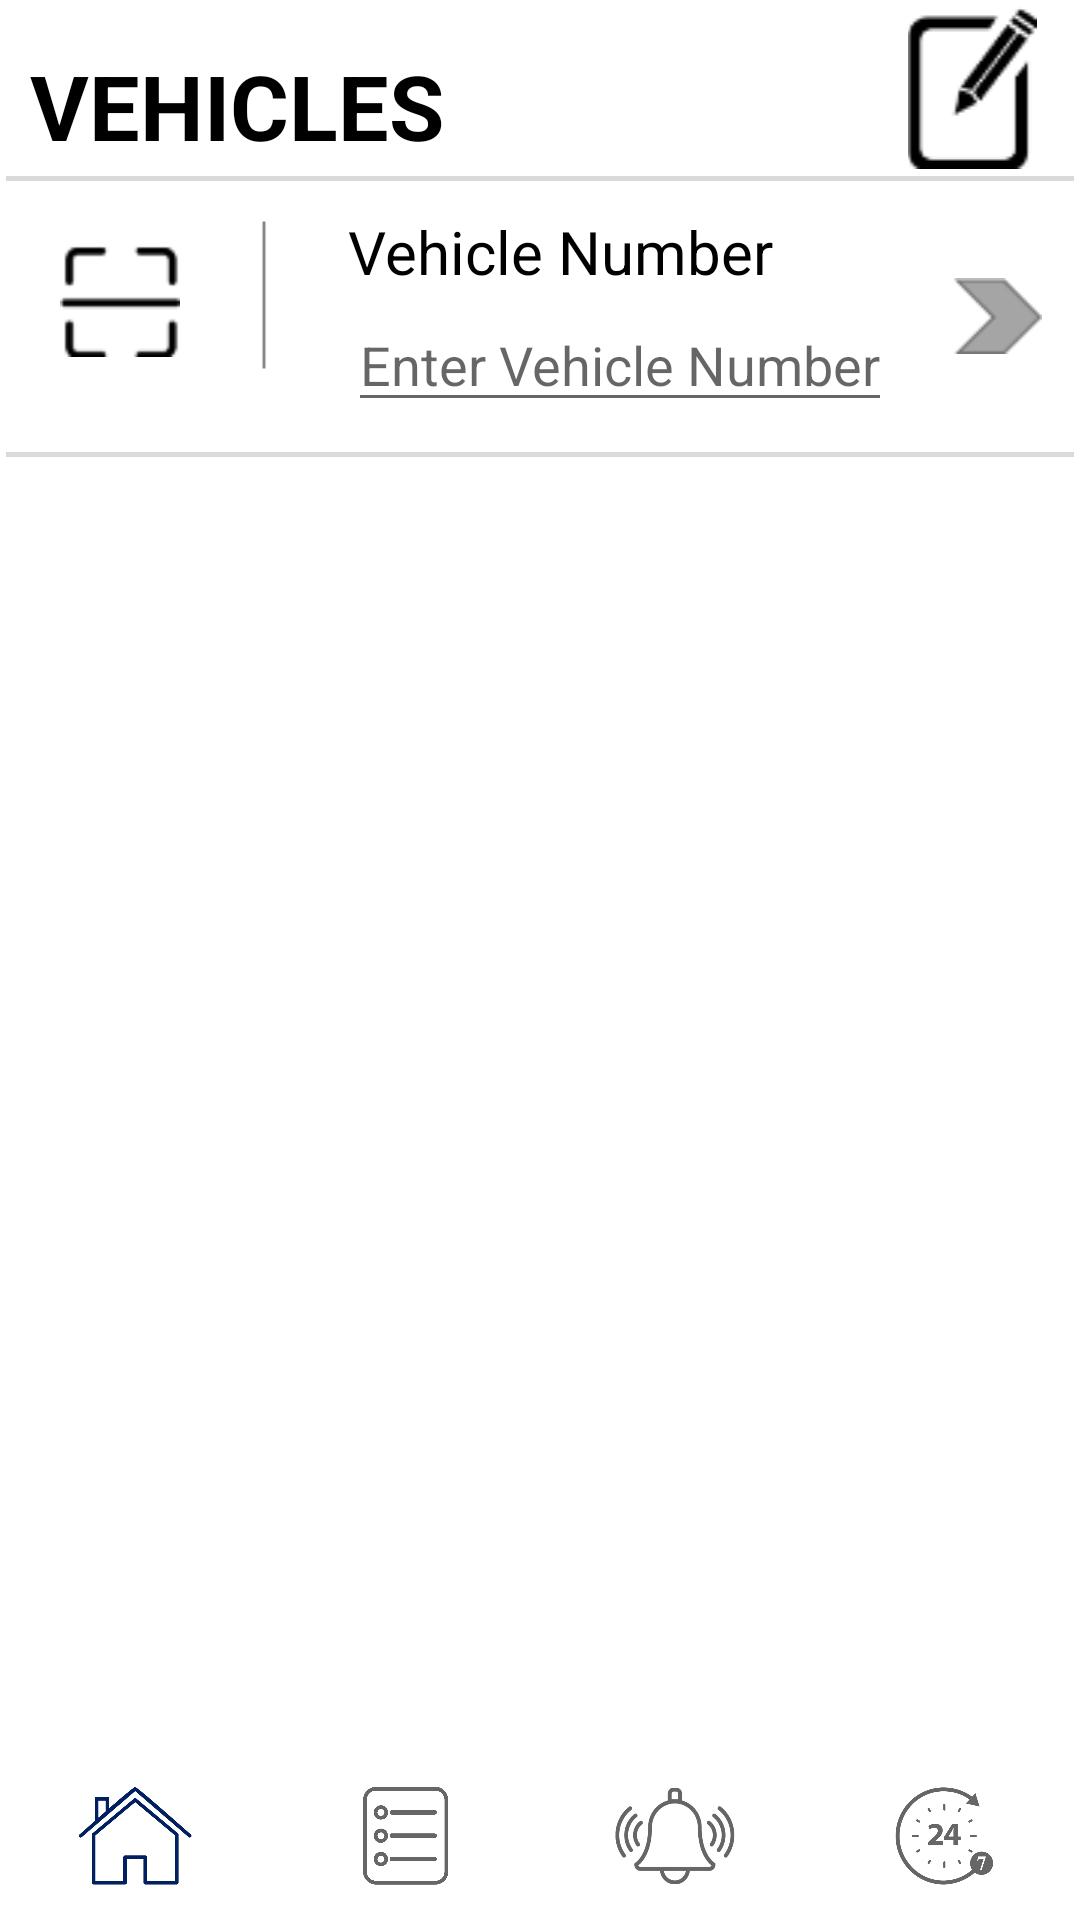

Icon click points for this 1080*1920 phone screenshot, format [x,y]:
arrownew: [998,316]
editvh: [972,89]
